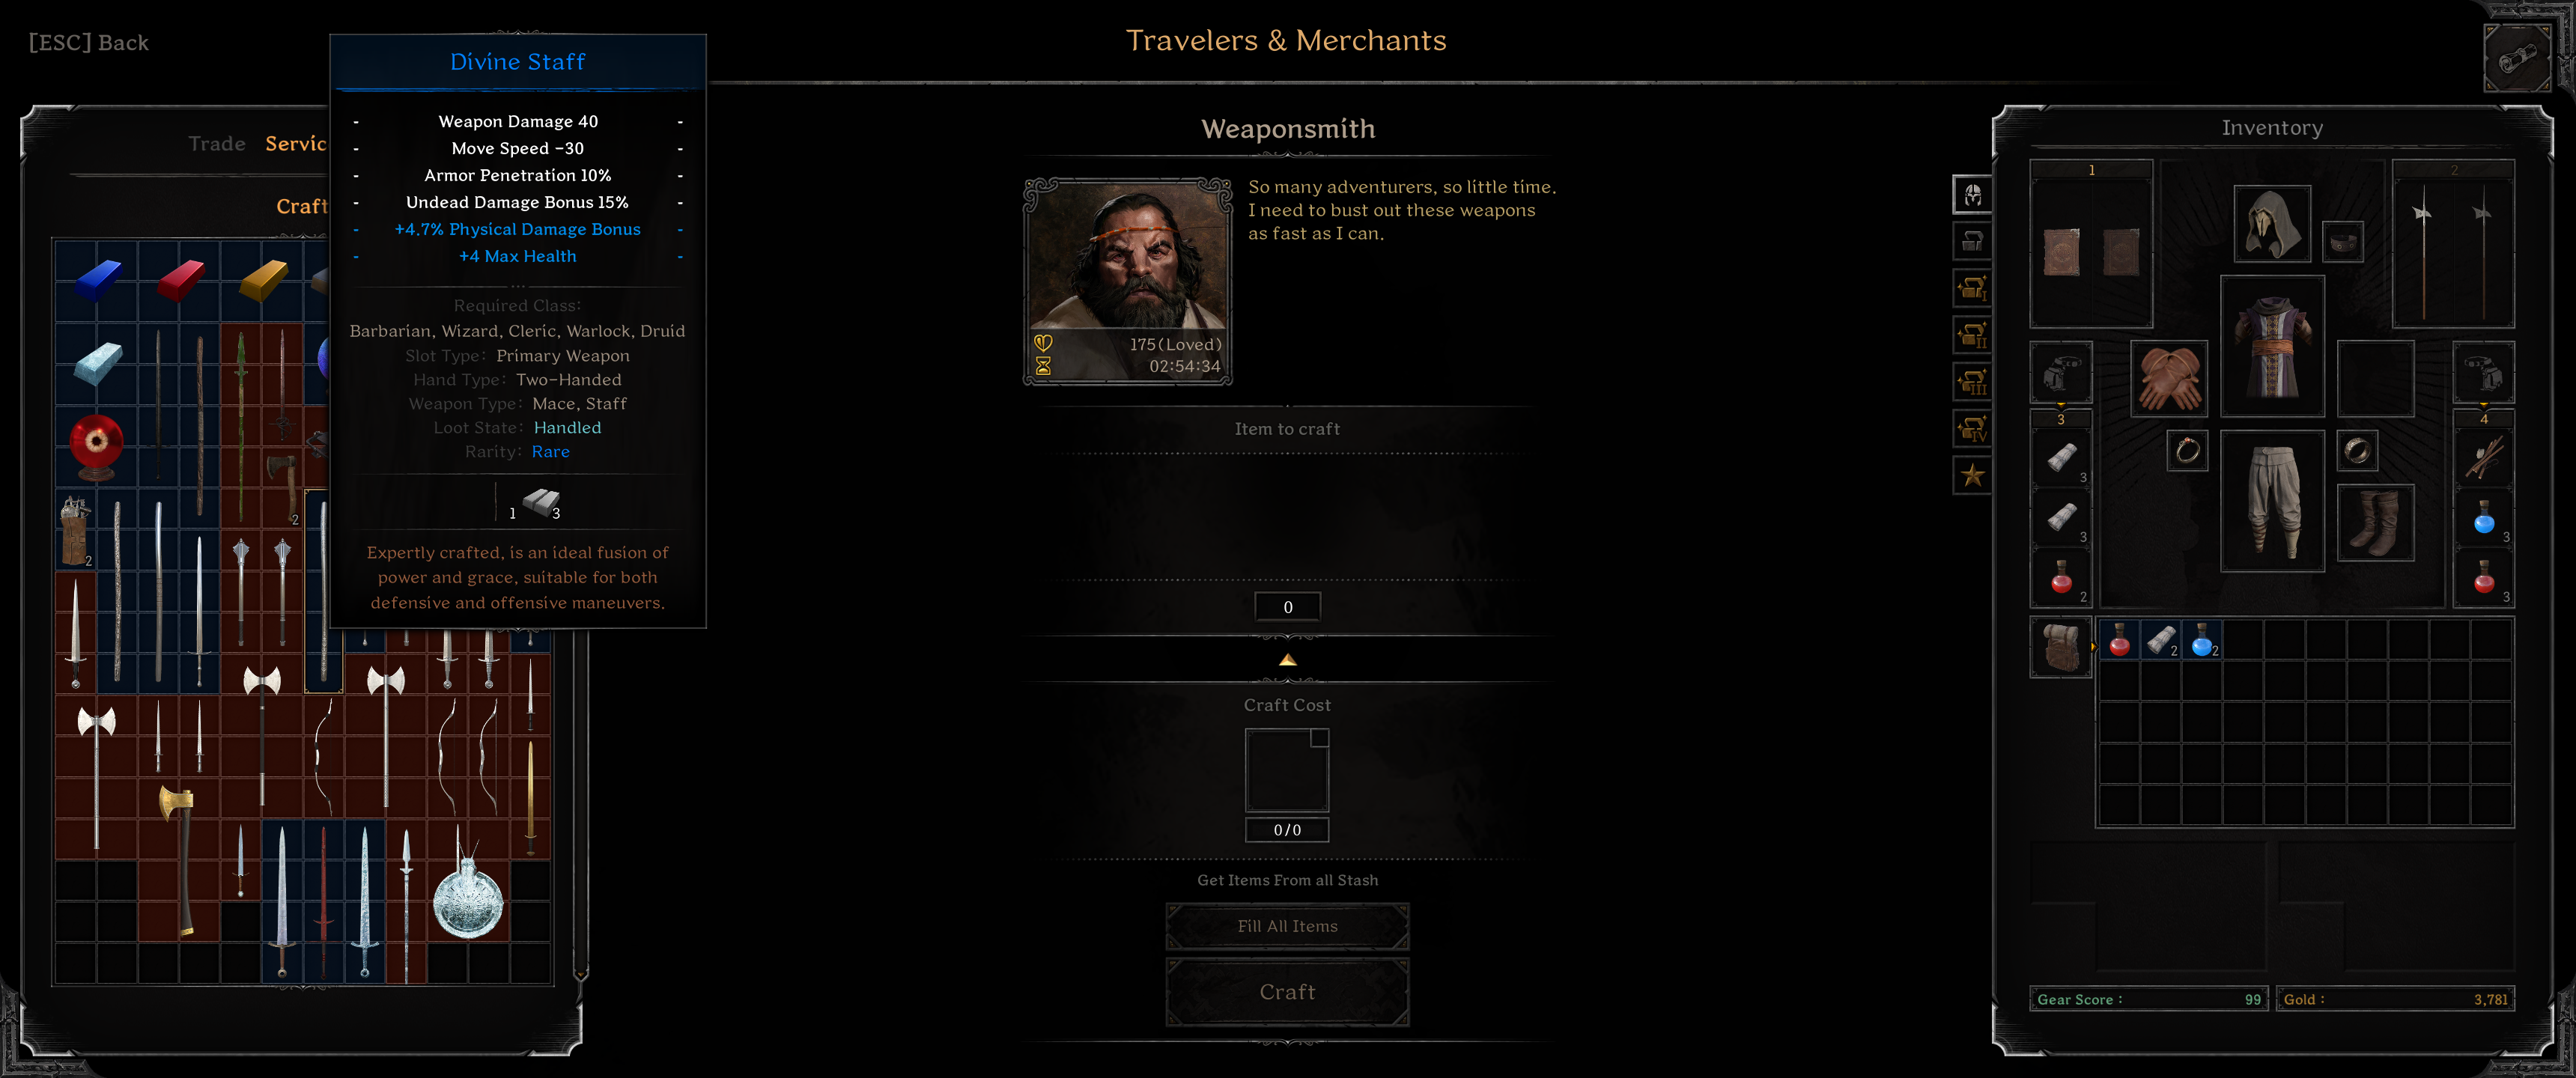Tooltip: (329, 31, 710, 631)
